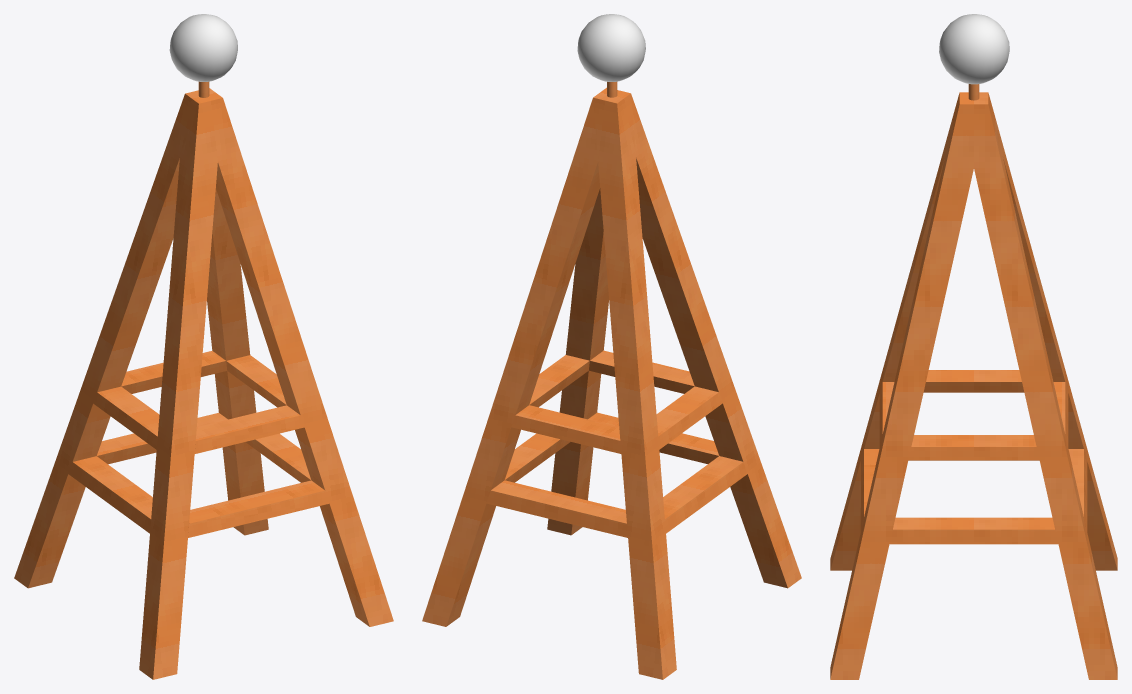
The model's file is tower.glb.
3 renders of one model, left to right at view 1: azimuth 30°, elevation 25°; view 2: azimuth 150°, elevation 25°; view 3: azimuth 270°, elevation 25°, orthographic. The views are drawn at different scales.
Parts seen in each view (by area): view 1: root; view 2: root; view 3: root.
Boxes of the visible parts, box(x1,y1,x2,y2) form: root: box(14, 14, 393, 679); root: box(422, 14, 801, 679); root: box(830, 14, 1117, 679).
Size of the model in its own units: 3 by 6.93 by 3.
2 materials, 1 textured.
